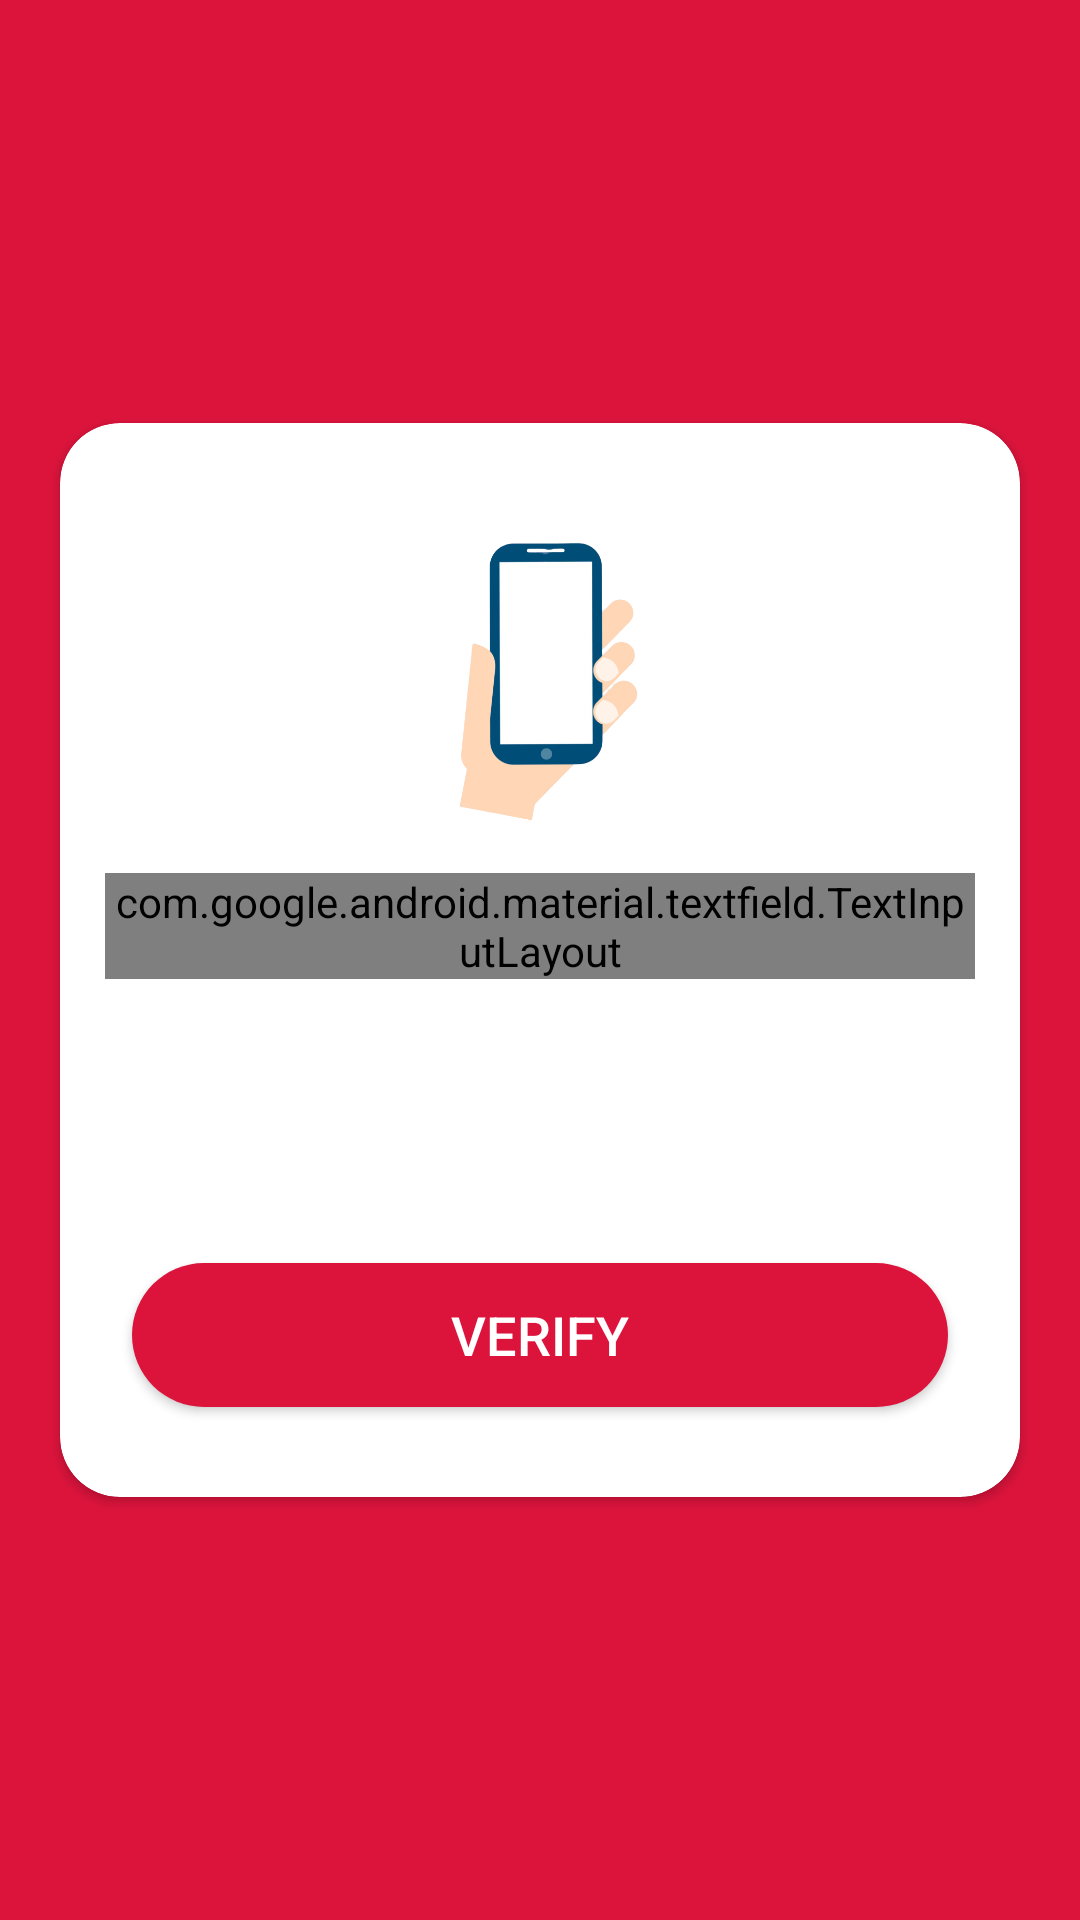

Where icons sit on this 1080 x 1920 app screen, as bbox(x1, y1, x2, y2):
getphoneno: bbox(460, 543, 637, 820)
